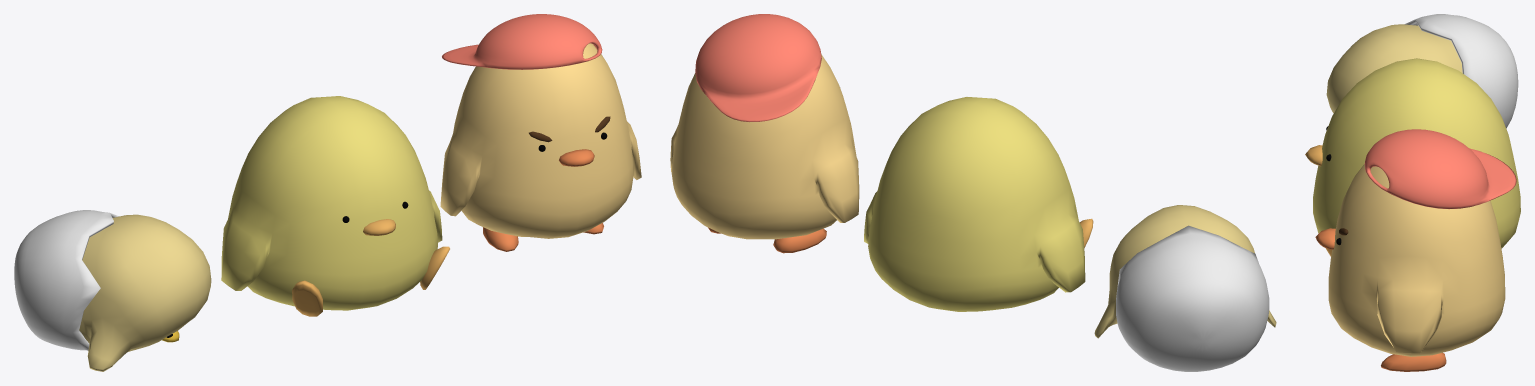
File: chick_trio.glb
3 views of the same model, side by side, from view 1: azimuth 30°, elevation 25°; view 2: azimuth 150°, elevation 25°; view 3: azimuth 270°, elevation 25° (orthographic).
Visible parts, largest first — view 1: Body, Body.003, Body.002, eGg, Sphere, Legs, Legs.001, Beak.002; view 2: Body, Body.003, eGg, Sphere, Body.002, Legs.001; view 3: Body.003, Body, Sphere, eGg, Body.002, Legs.001, Beak.002, Beak.
Boxes of the visible parts, bbox=[...] form: Body: bbox=[221, 96, 442, 310]; Body.003: bbox=[440, 43, 641, 238]; Body.002: bbox=[79, 214, 211, 371]; eGg: bbox=[14, 210, 118, 350]; Sphere: bbox=[442, 14, 602, 69]; Legs: bbox=[292, 246, 449, 316]; Legs.001: bbox=[483, 223, 603, 251]; Beak.002: bbox=[559, 149, 594, 166]; Body: bbox=[864, 97, 1085, 311]; Body.003: bbox=[670, 54, 859, 239]; eGg: bbox=[1116, 225, 1269, 371]; Sphere: bbox=[695, 14, 821, 121]; Body.002: bbox=[1094, 205, 1276, 338]; Legs.001: bbox=[708, 227, 826, 253]; Body.003: bbox=[1328, 164, 1505, 356]; Body: bbox=[1313, 58, 1520, 248]; Sphere: bbox=[1364, 129, 1516, 209]; eGg: bbox=[1405, 14, 1518, 128]; Body.002: bbox=[1326, 24, 1462, 113]; Legs.001: bbox=[1381, 352, 1446, 371]; Beak.002: bbox=[1315, 228, 1335, 249]; Beak: bbox=[1305, 145, 1322, 166].
Bounding box in the file's own units: 5.51 × 1.94 × 1.72.
